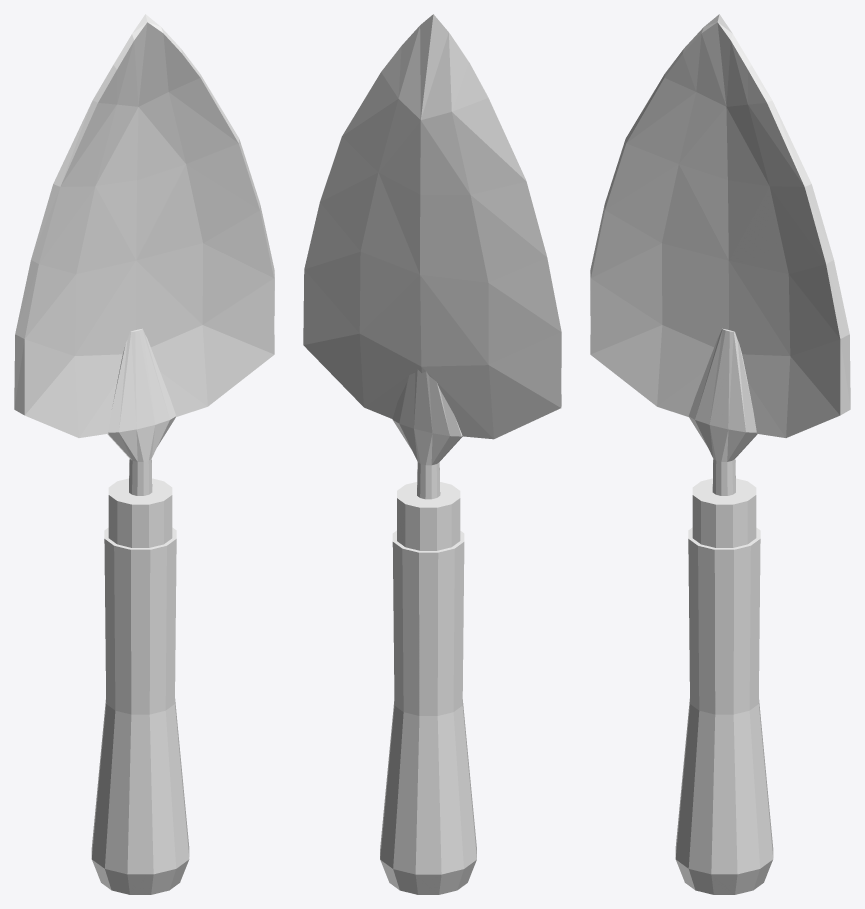
File: Tool_Trowel_01.glb
The picture shows the model from 3 angles, left to right: view 1: azimuth 30°, elevation 25°; view 2: azimuth 150°, elevation 25°; view 3: azimuth 330°, elevation 25°; orthographic projection.
Visible parts, largest first — view 1: Tool_Trowel_01; view 2: Tool_Trowel_01; view 3: Tool_Trowel_01.
Part boxes in pixels (x1,y1,x2,y2): Tool_Trowel_01: [14, 14, 274, 894]; Tool_Trowel_01: [303, 14, 561, 894]; Tool_Trowel_01: [590, 14, 850, 894].
Bounding box in the file's own units: 0.0929 × 0.2996 × 0.0302.
1 material, 1 textured.
